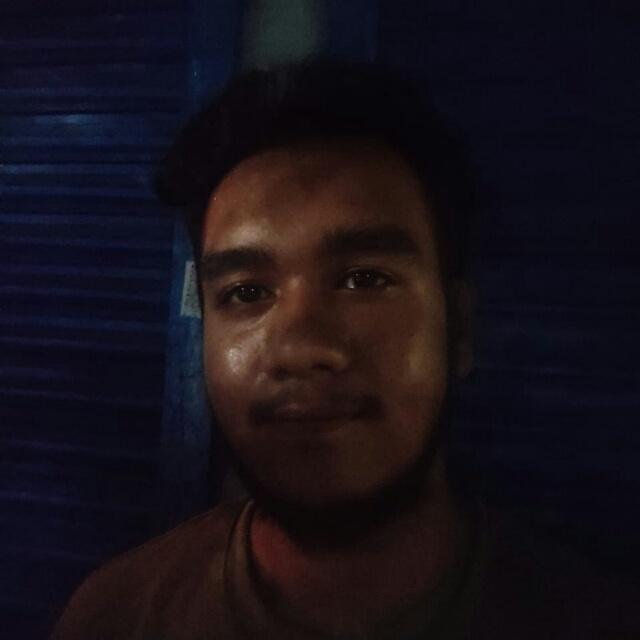Natural: (126, 50, 472, 584)
